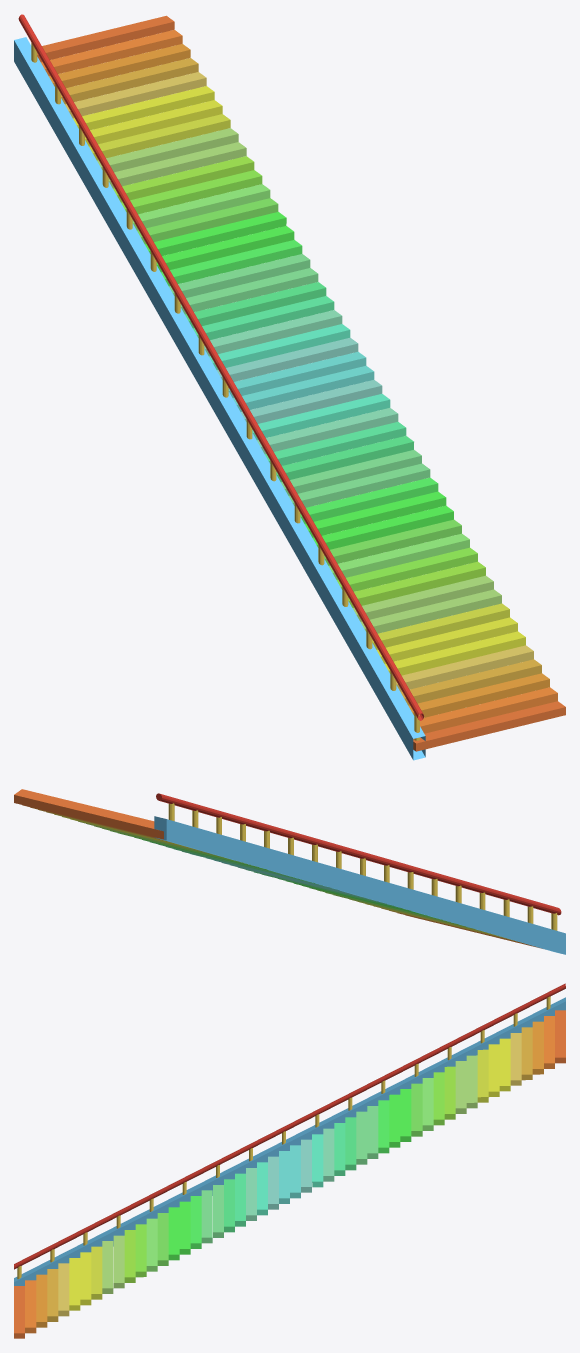
File: Stairs2.fbx
3 renders of one model, top to bottom at view 1: azimuth 30°, elevation 25°; view 2: azimuth 150°, elevation 25°; view 3: azimuth 270°, elevation 25°, orthographic. The views are drawn at different scales.
Visible parts, largest first — view 1: Cube.010; view 2: Cube.010; view 3: Cube.010.
Boxes of the visible parts, bbox=[...] form: Cube.010: bbox=[14, 14, 565, 760]; Cube.010: bbox=[14, 789, 565, 954]; Cube.010: bbox=[14, 983, 565, 1338].
Bounding box in the file's own units: 2.46 × 6.96 × 11.15.
